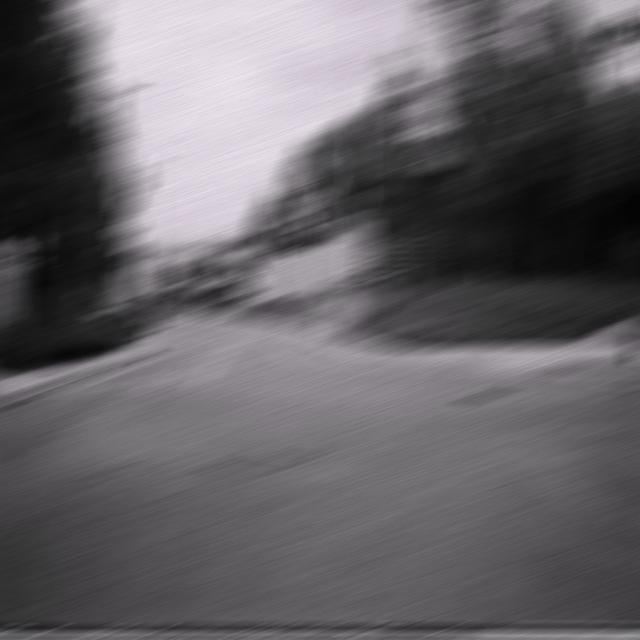speedLimit25: (350, 225, 374, 252)
